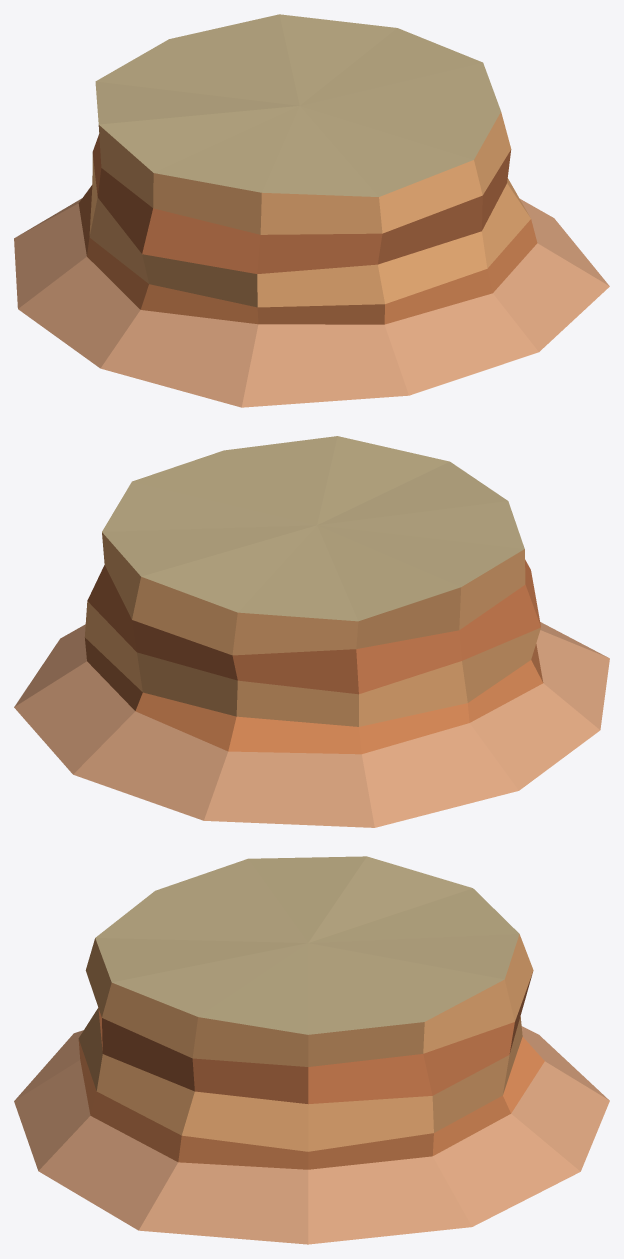
Rendered from mesa.glb.
3 renders of one model, top to bottom at view 1: azimuth 30°, elevation 25°; view 2: azimuth 150°, elevation 25°; view 3: azimuth 270°, elevation 25°, orthographic.
Visible parts, largest first — view 1: mesa; view 2: mesa; view 3: mesa.
Part boxes in pixels (x1,y1,x2,y2): mesa: (14, 14, 609, 407); mesa: (14, 436, 609, 827); mesa: (14, 856, 609, 1244).
Bounding box in the file's own units: 36.28 × 12.33 × 37.42.
